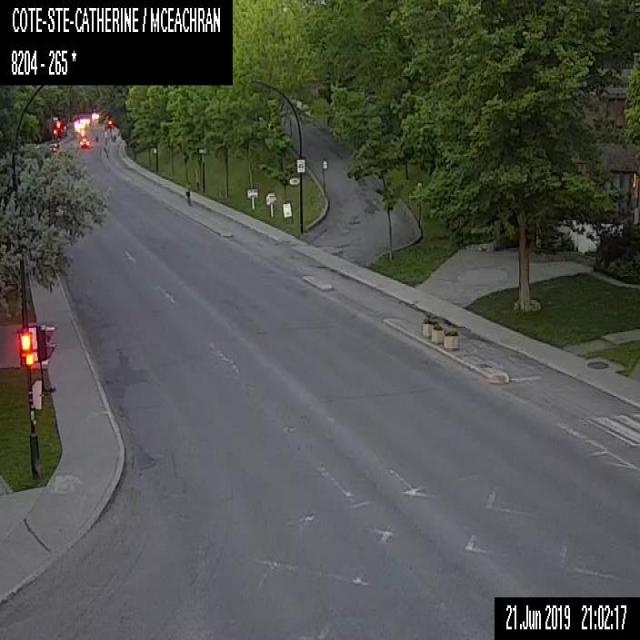cyclist: (184, 180, 191, 205)
vehicle: (79, 136, 89, 148), (50, 140, 58, 148)
